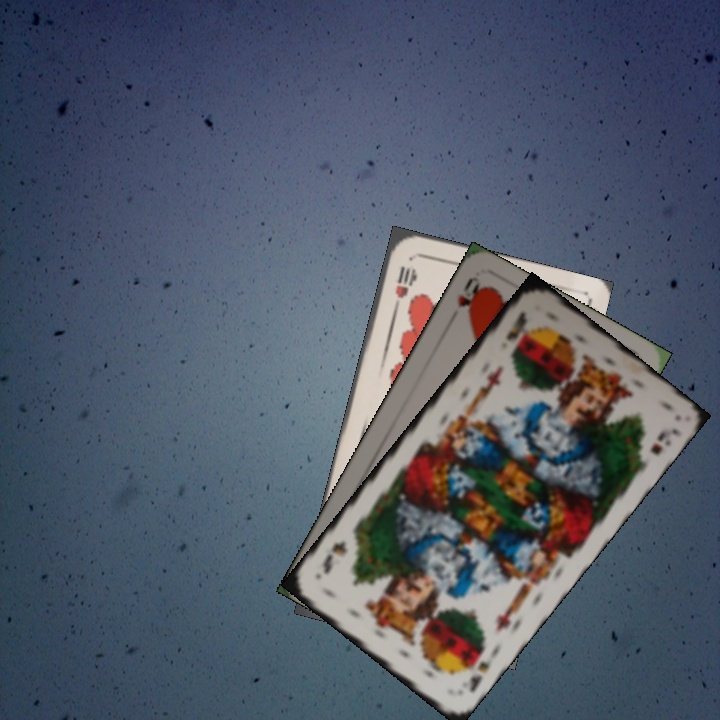H10: (390, 262, 417, 313)
HO: (453, 272, 486, 319)
SK: (461, 642, 499, 696), (502, 306, 530, 343)
